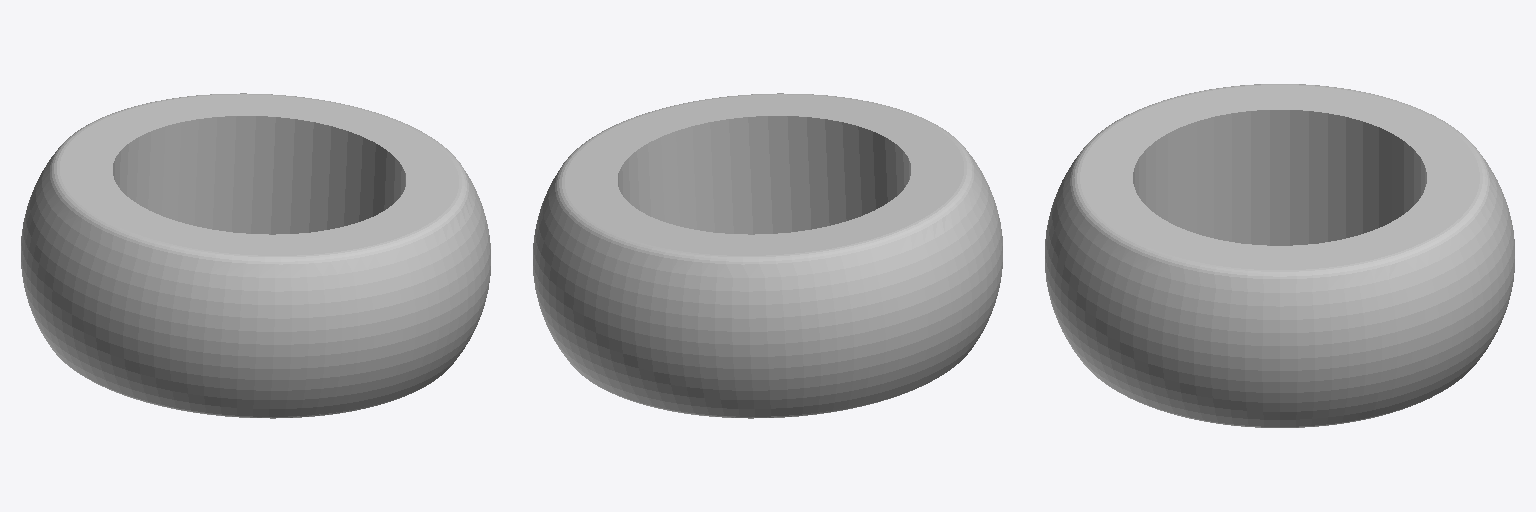
File: B_wheel_l2_0.obj
3 renders of one model, left to right at view 1: azimuth 30°, elevation 25°; view 2: azimuth 150°, elevation 25°; view 3: azimuth 270°, elevation 25°, orthographic.
Size of the model in its own units: 0.08 by 0.033 by 0.0799.